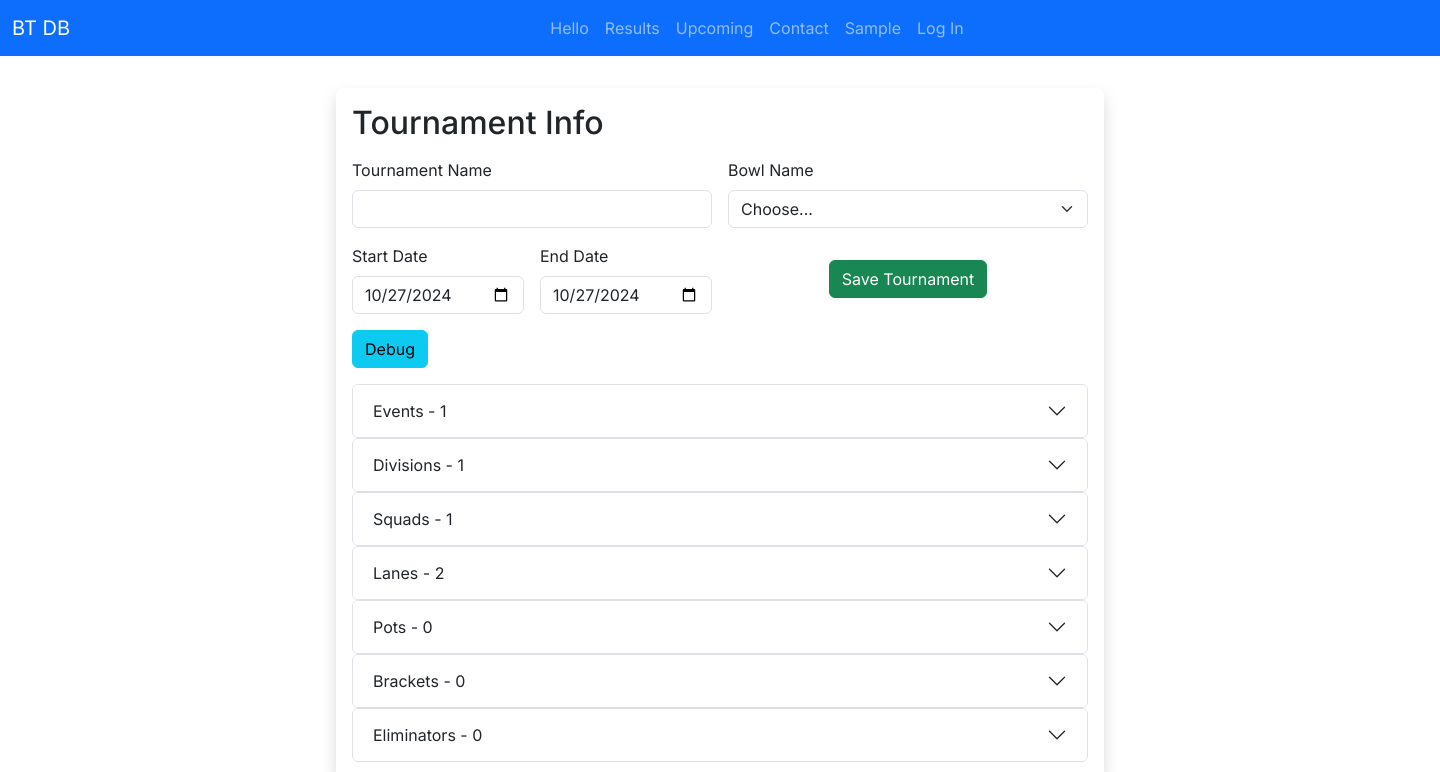
Test: TmntDataPage - Brackets Component › click on the brackets accordian › render the create brackets tab
Click the button "Brackets - 0" at (414, 681), box [353, 655, 1087, 707]
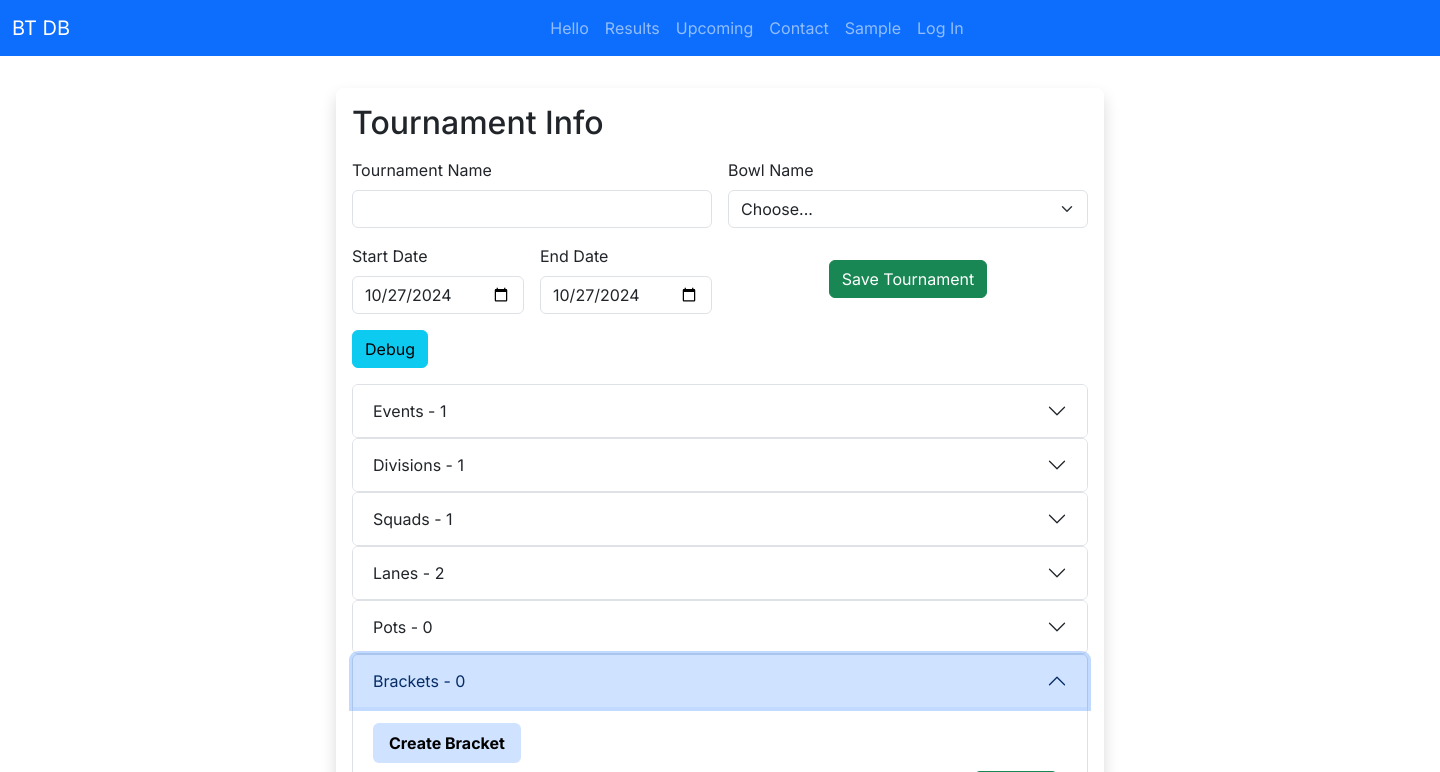
Check: the tab "Create Bracket" is shown, box [373, 723, 521, 763]
